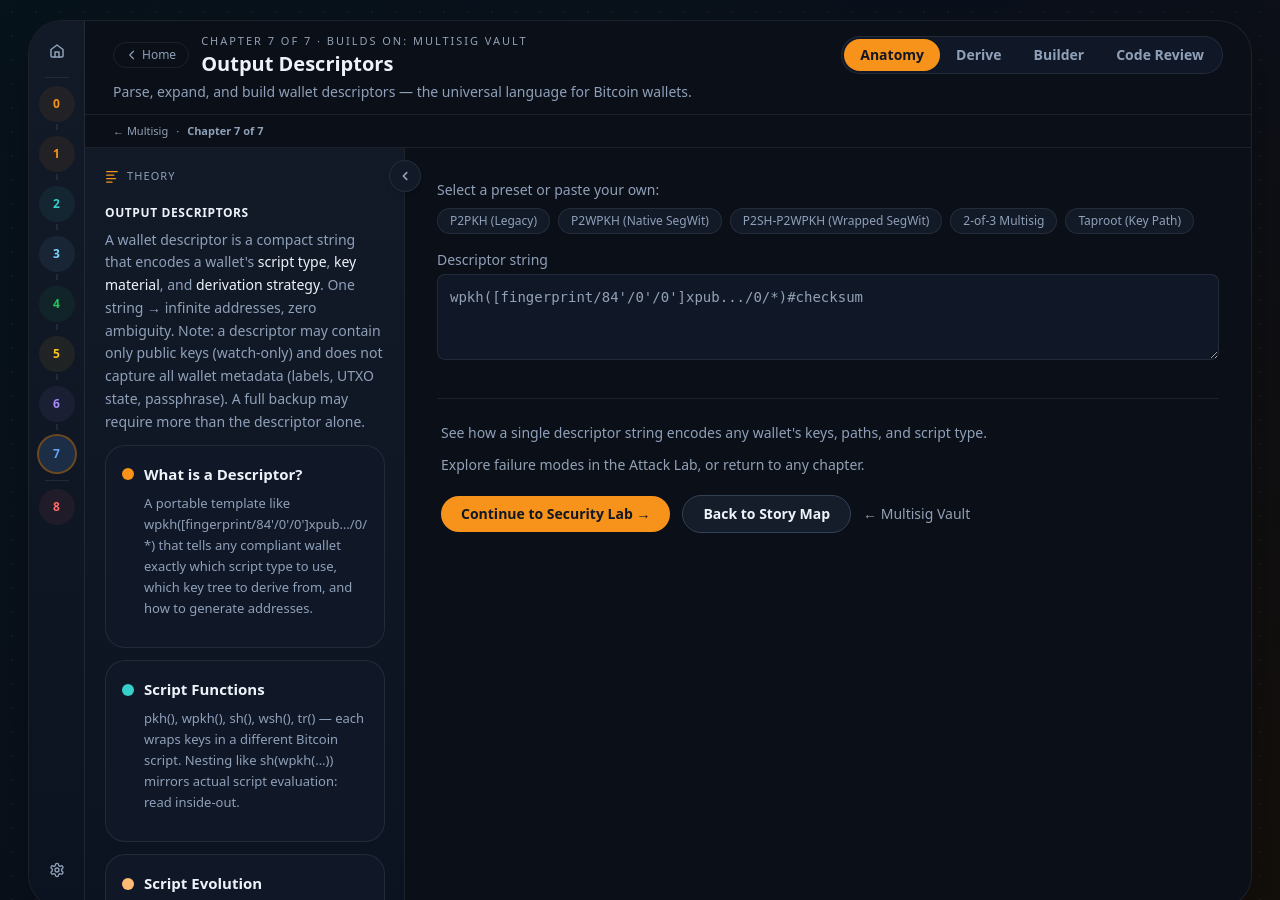
Scenario: OutputDescriptors › AC3: three tabs render and are clickable
The image size is (1280, 900).
Check: the tab "Anatomy" is shown, box [844,39,940,71]
Check: the tab "Builder" is shown, box [1018,39,1100,71]
Switch to Derive — use findBy* after AnimatePresence transition
Click the tab "Derive".
click(979, 55)  # box [940,39,1018,71]
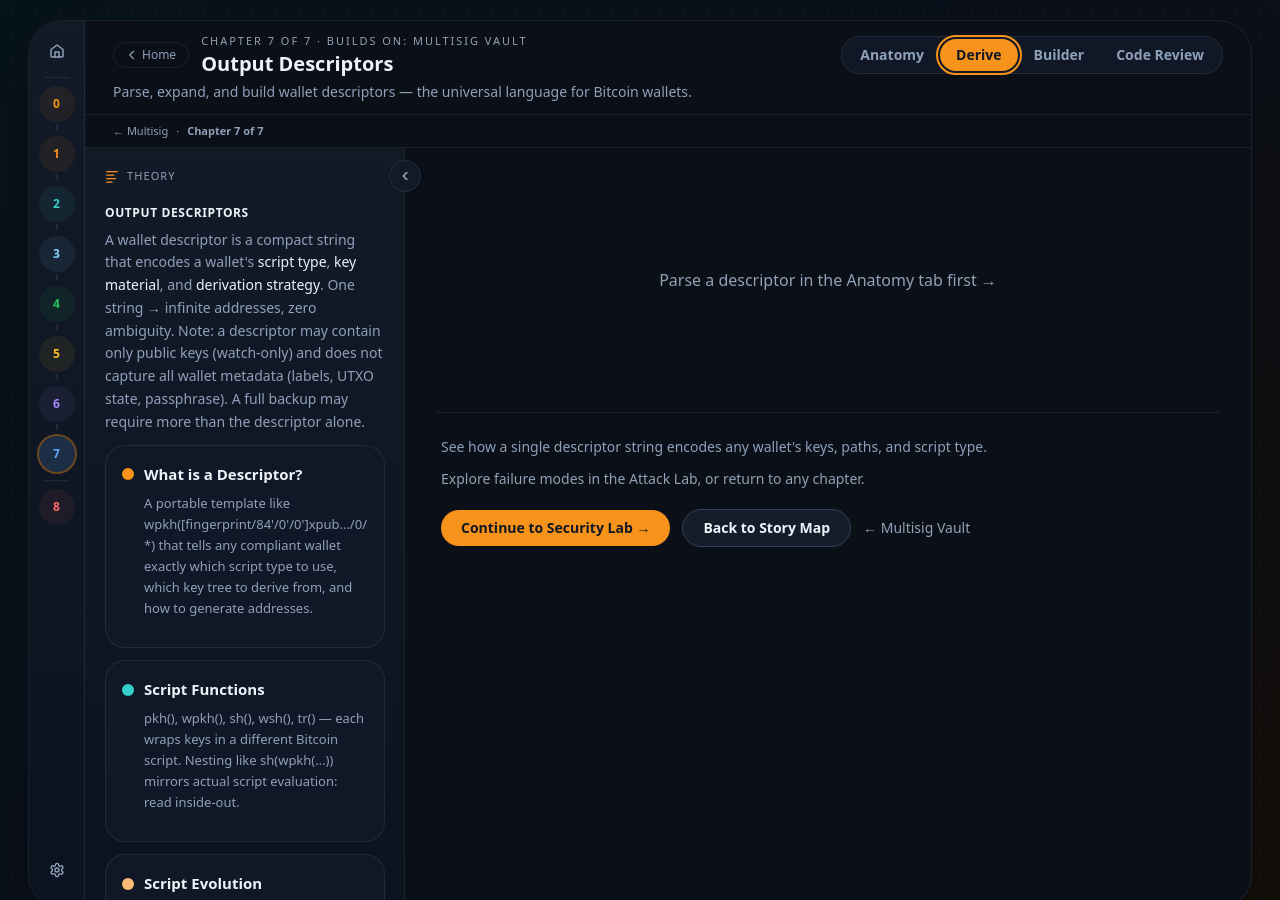
Check: the text "Parse a descriptor in the Anatomy tab first →" is shown, box [659,268,997,292]
Switch to Builder
Click the tab "Builder".
click(1059, 55)  # box [1018,39,1100,71]
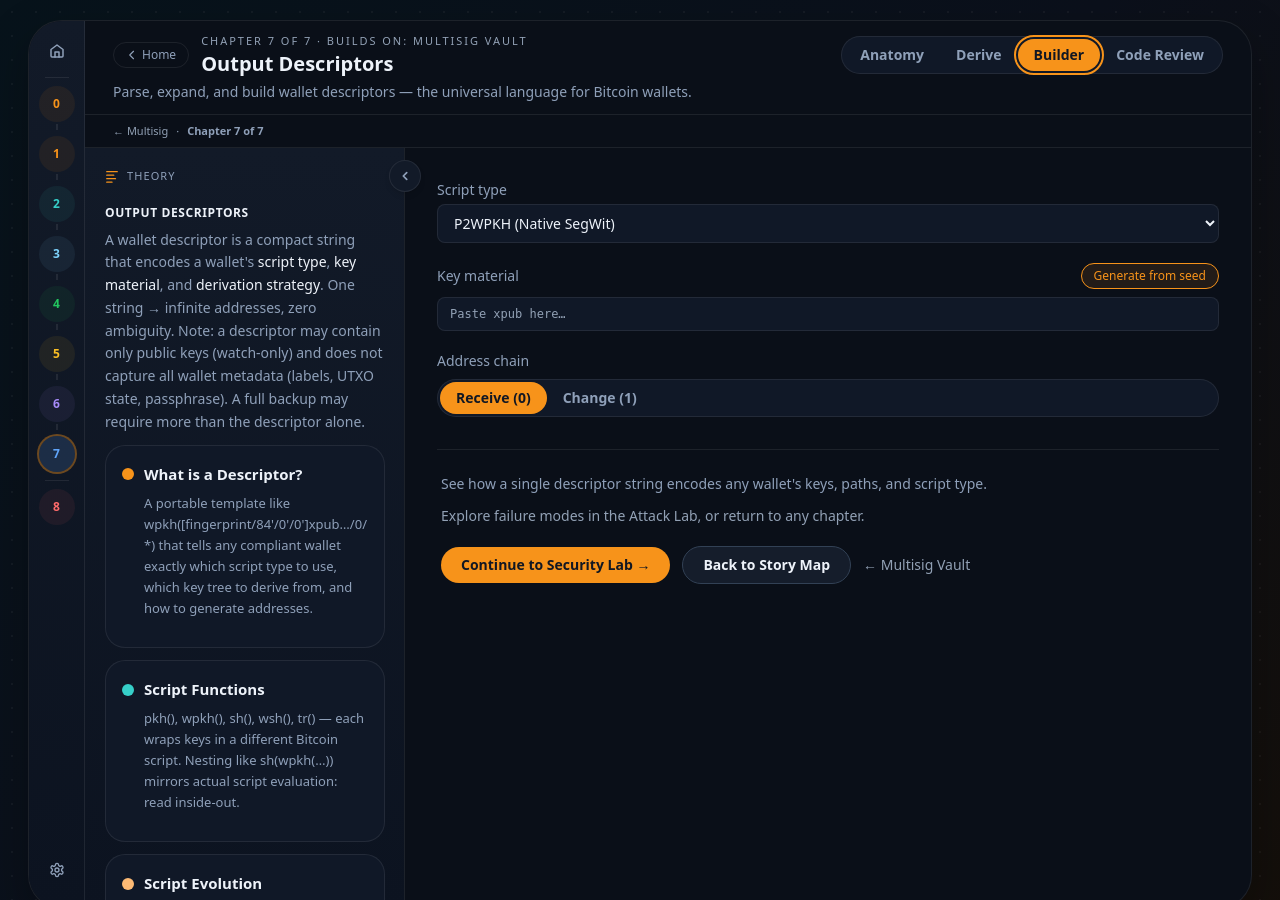
Check: the dropdown labelled "Script type" is shown, box [437,204,1219,243]
